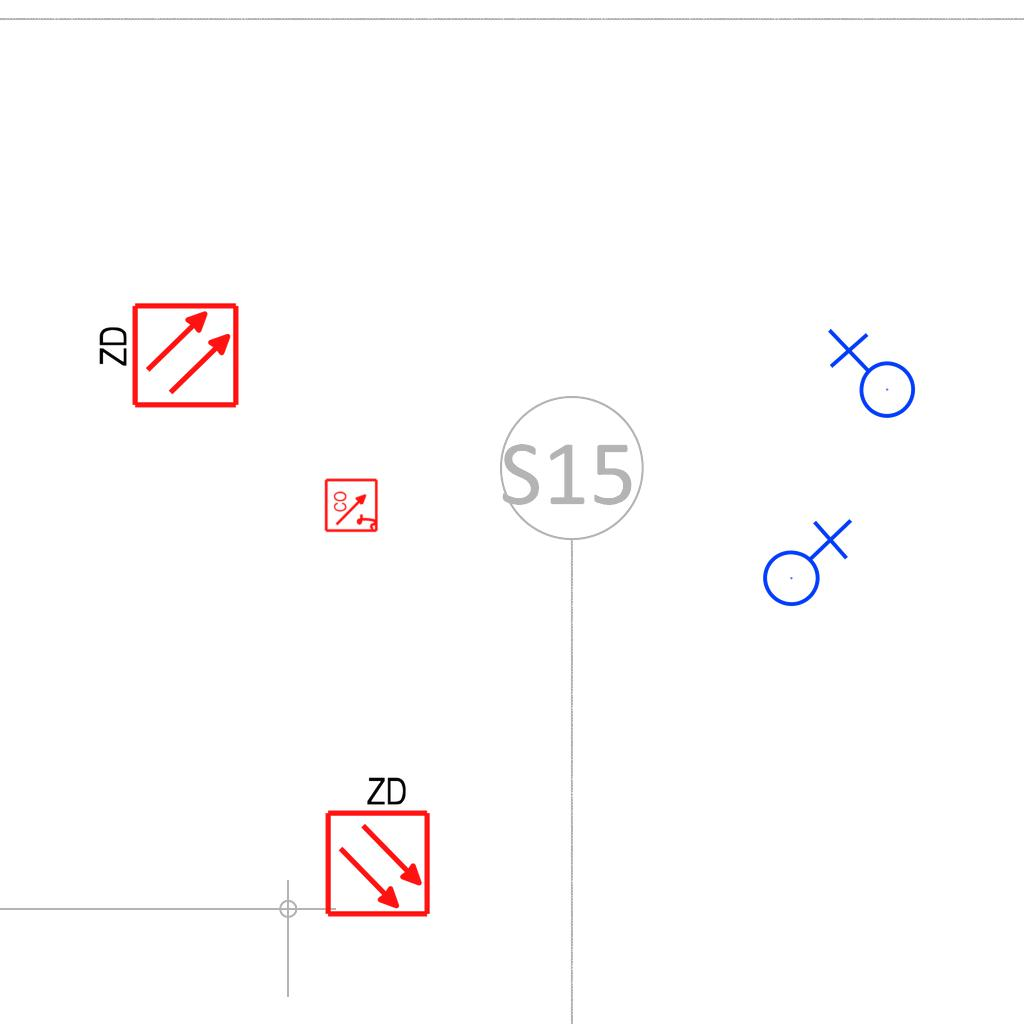Elektroanschluss_allgemein_230V_Geraeteanschlussdose_230V: (823, 328, 917, 427), (754, 514, 853, 608)
ROA_Rauchmelder_optisch_mit_Signalgeber_(Sockelsirene): (324, 477, 380, 533)
ZD_Melder_in_Zwischendecke_mit_Revisionsoeffnung_mind_40_x_40_cm: (92, 300, 241, 414), (319, 770, 433, 919)
